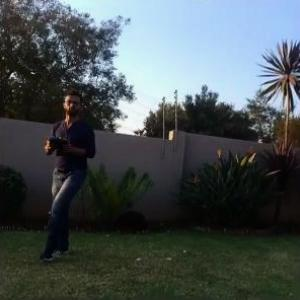follow: (30, 81, 98, 268)
